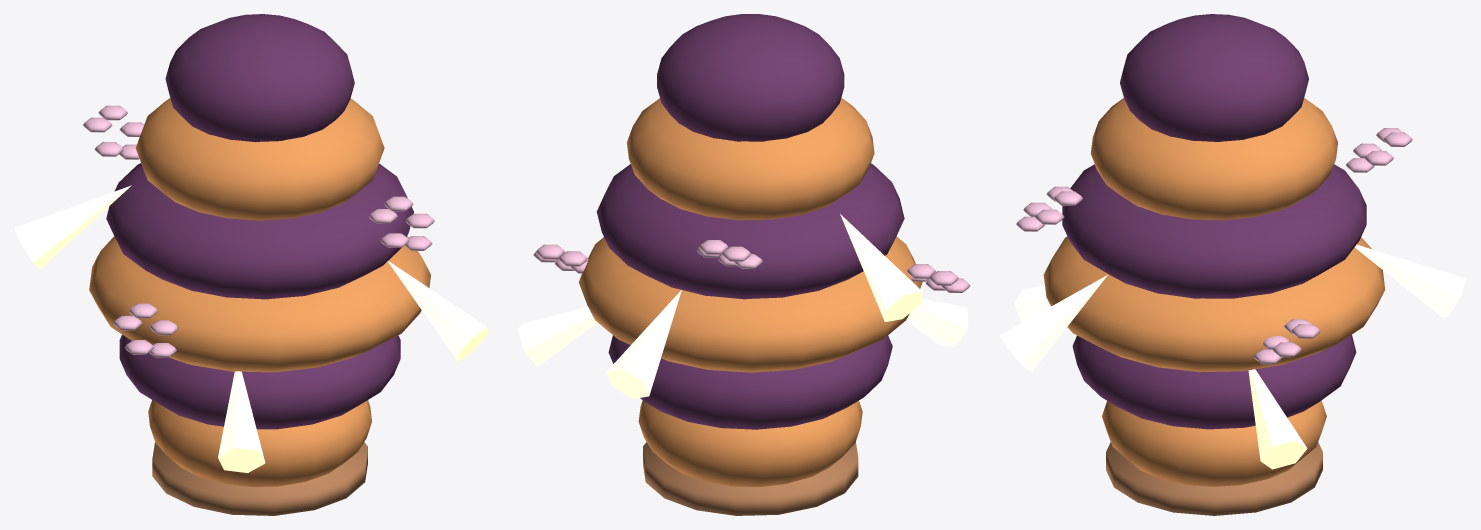
Rendered from egg_volcano_03.glb.
3 views of the same model, side by side, from view 1: azimuth 30°, elevation 25°; view 2: azimuth 150°, elevation 25°; view 3: azimuth 270°, elevation 25° (orthographic).
Parts seen in each view (by area): view 1: ball; view 2: ball; view 3: ball.
Part boxes in pixels (x1=…): ball: x1=14, y1=14, x2=488, y2=515; ball: x1=517, y1=14, x2=970, y2=515; ball: x1=999, y1=14, x2=1466, y2=515.
Size of the model in its own units: 0.9445 by 0.99 by 0.9475.
